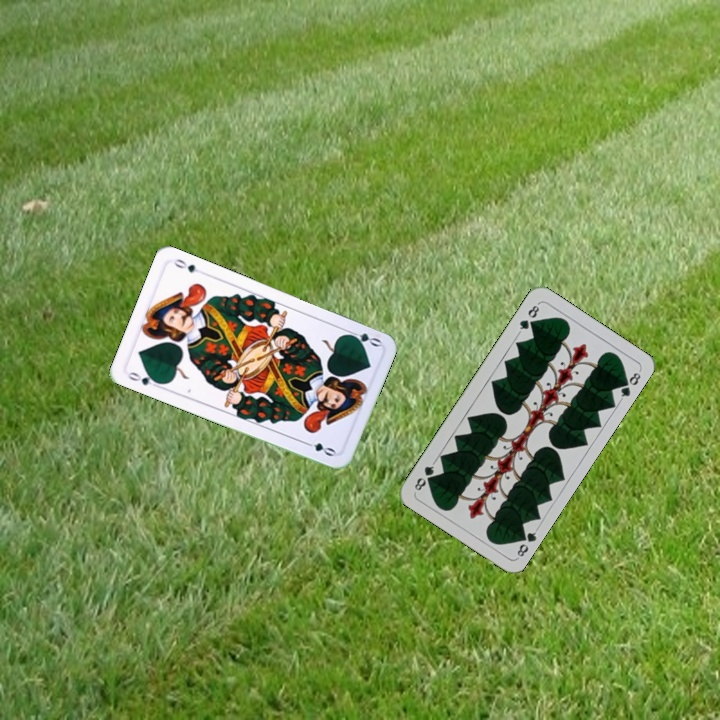G8: (513, 524, 541, 561), (515, 299, 542, 336)
GO: (342, 326, 383, 350), (124, 368, 163, 388)
